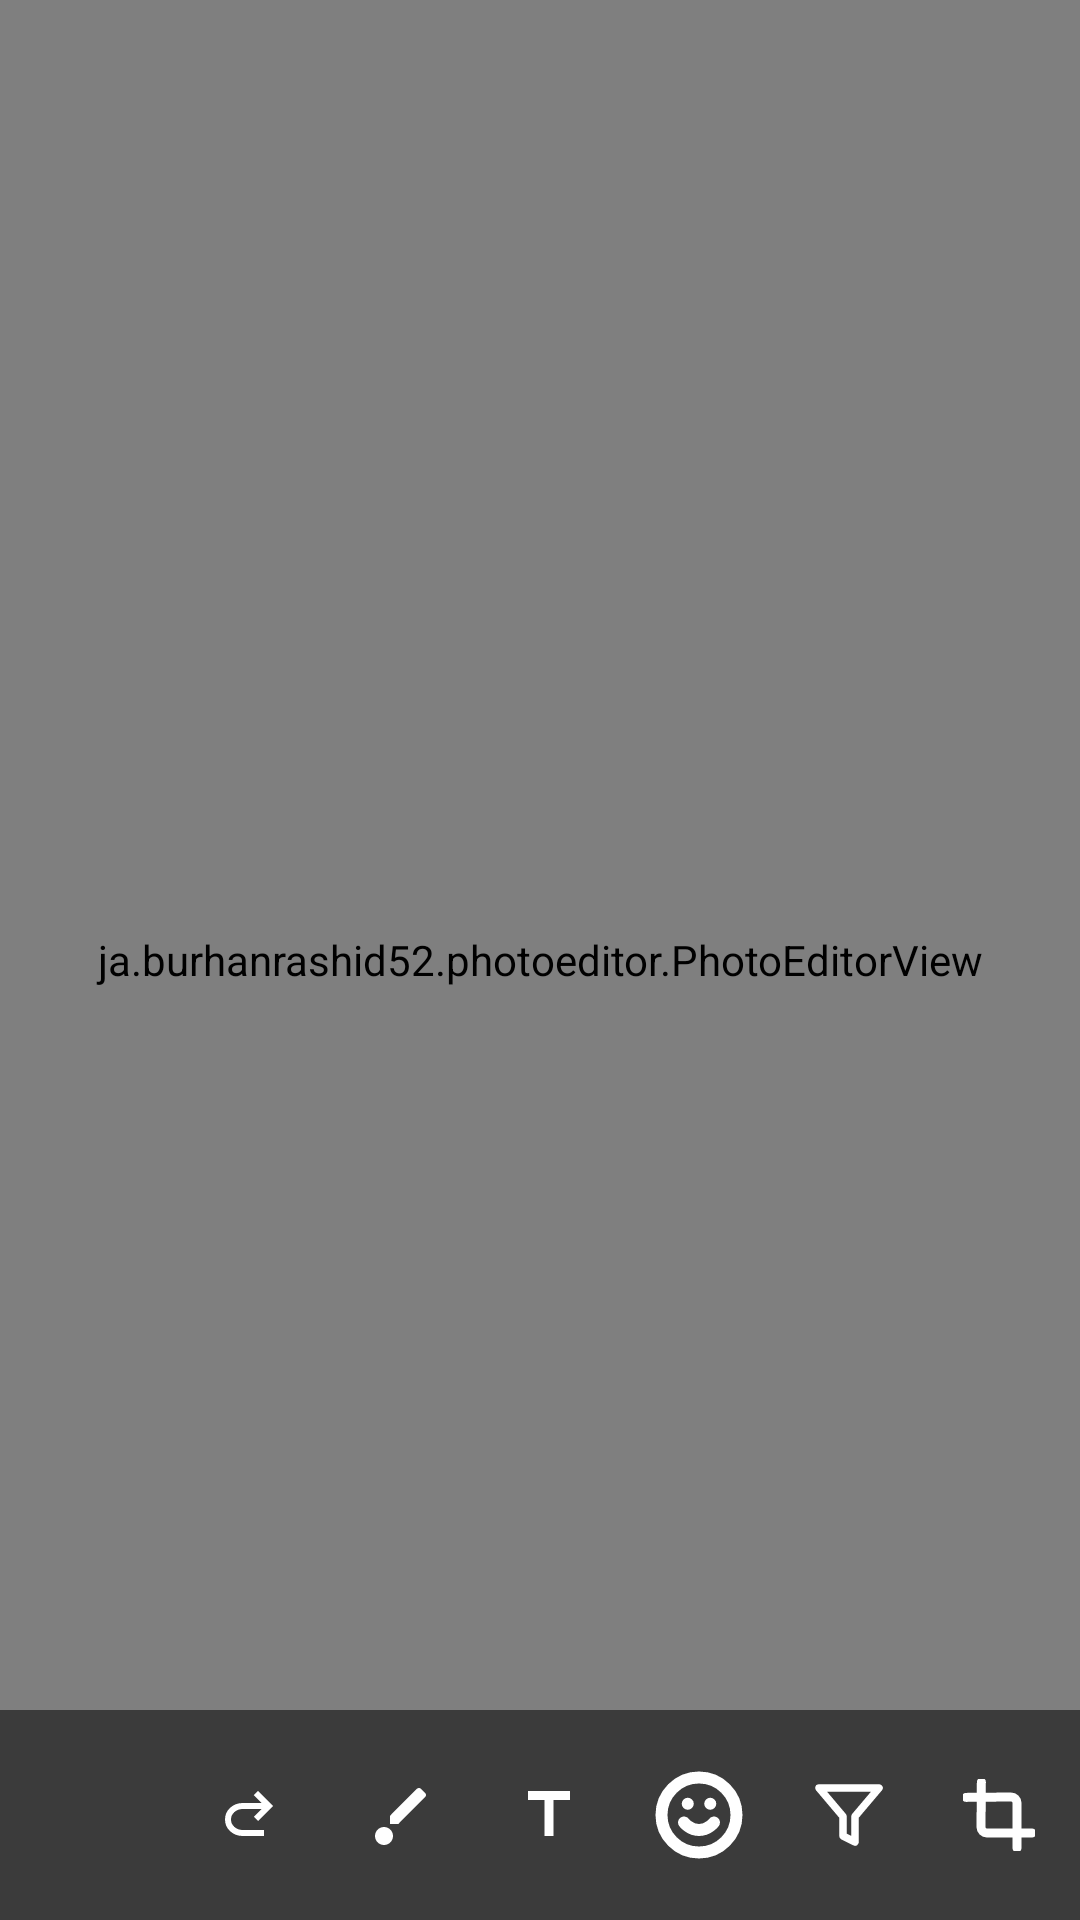

Icons on this 1080px x 1920px Android screen, each with the point to tap as point (x, y):
Add Emoji: point (699, 1815)
Add Text: point (549, 1813)
Brush: point (400, 1816)
Crop: point (999, 1815)
Filter: point (849, 1815)
Redo: point (249, 1813)
